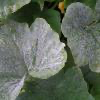Squash Powdery mildew leaf: (0, 15, 69, 94), (61, 1, 100, 73)
